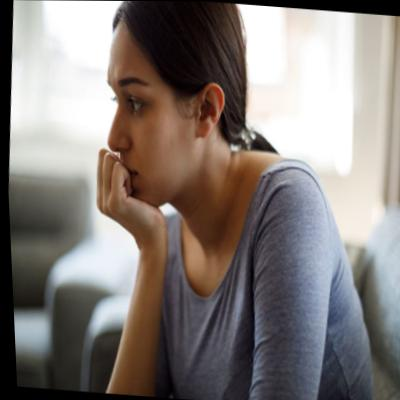sad: (93, 37, 196, 210)
